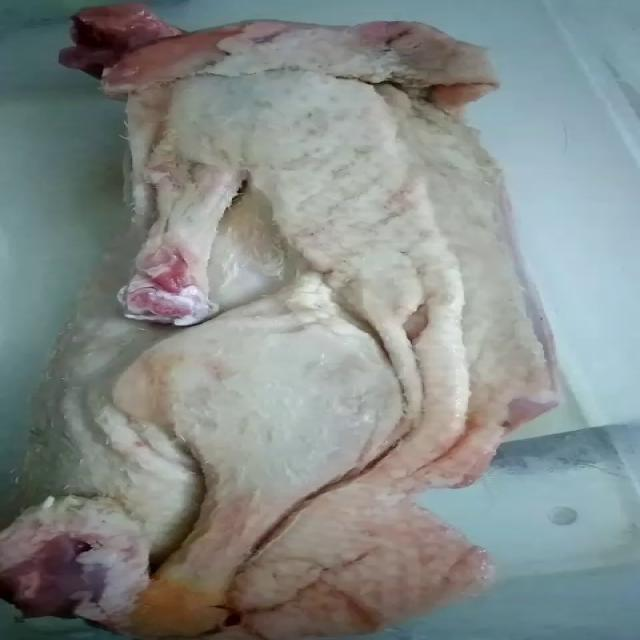chicken: (1, 0, 554, 640)
